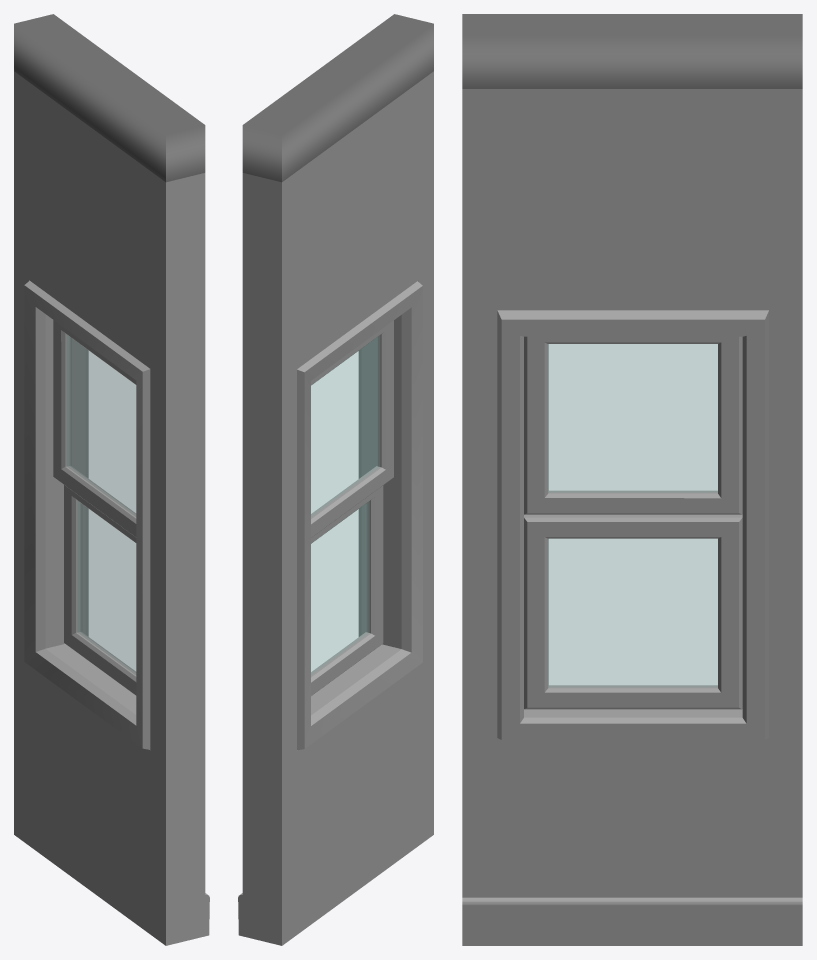
Rendered from fbx_Modular_Wall_Window_1m.fbx.
3 views of the same model, side by side, from view 1: azimuth 30°, elevation 25°; view 2: azimuth 150°, elevation 25°; view 3: azimuth 270°, elevation 25° (orthographic). The views are drawn at different scales.
Parts seen in each view (by area): view 1: pCube1128, pCube1124, pCube939 (×2), pCube1123, pCube1125; view 2: pCube1128, pCube1124, pCube939 (×2), pCube1123, pCube1125; view 3: pCube1128, pCube939 (×2), pCube1124, pCube1125, pCube1123.
Boxes of the visible parts, x1=… form: pCube1128: x1=14, y1=14, x2=209, y2=945; pCube1124: x1=24, y1=280, x2=150, y2=749; pCube939 (×2): x1=67, y1=335, x2=135, y2=674; pCube1123: x1=53, y1=320, x2=136, y2=537; pCube1125: x1=64, y1=485, x2=136, y2=695; pCube1128: x1=238, y1=14, x2=433, y2=945; pCube1124: x1=297, y1=281, x2=422, y2=750; pCube939 (×2): x1=311, y1=336, x2=379, y2=675; pCube1123: x1=311, y1=320, x2=393, y2=537; pCube1125: x1=311, y1=485, x2=383, y2=695; pCube1128: x1=462, y1=14, x2=802, y2=945; pCube939 (×2): x1=548, y1=344, x2=717, y2=687; pCube1124: x1=497, y1=310, x2=768, y2=739; pCube1125: x1=524, y1=514, x2=742, y2=709; pCube1123: x1=524, y1=336, x2=742, y2=514.
Bounding box in the file's own units: 0.2112 × 2.95 × 1.
